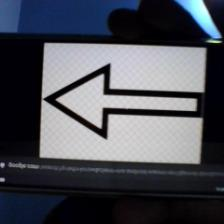left: (44, 63, 203, 142)
